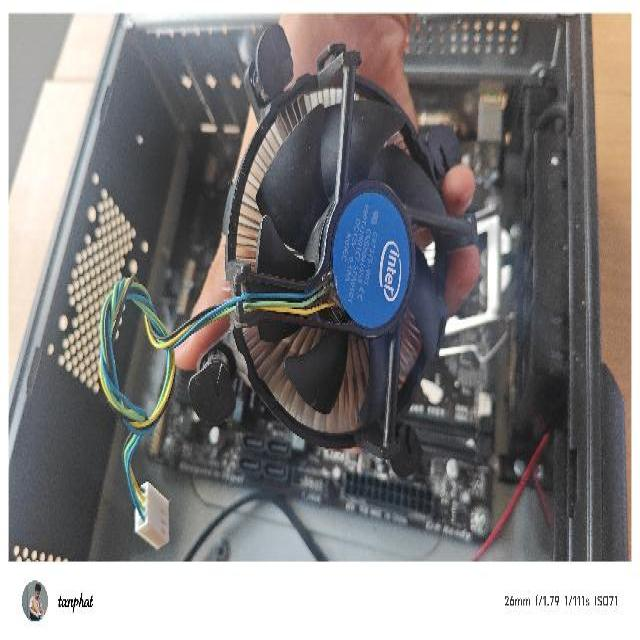CPU_Fan: (188, 24, 478, 480)
